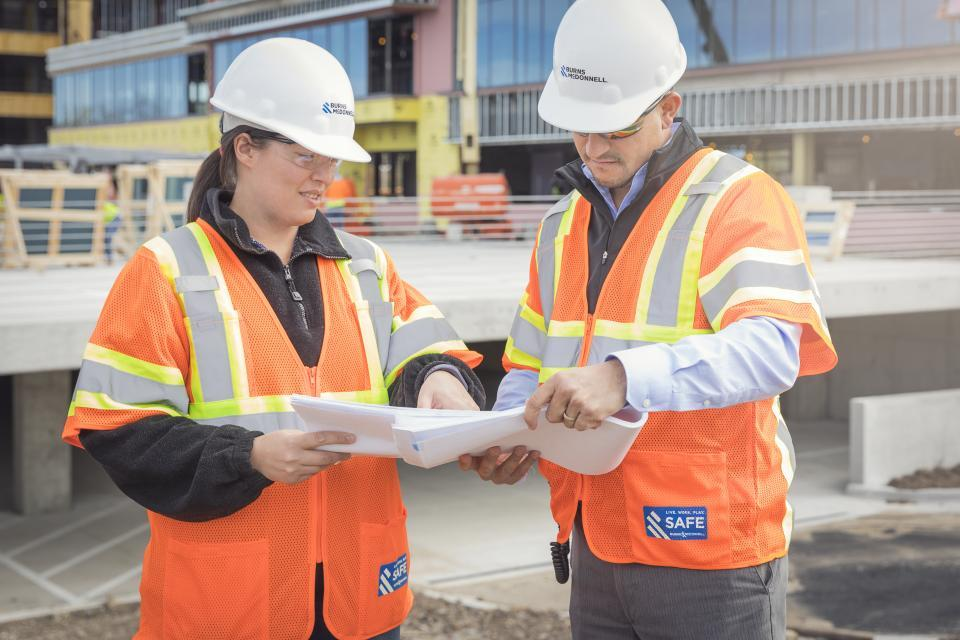helmet: (211, 37, 379, 164), (539, 1, 689, 136)
